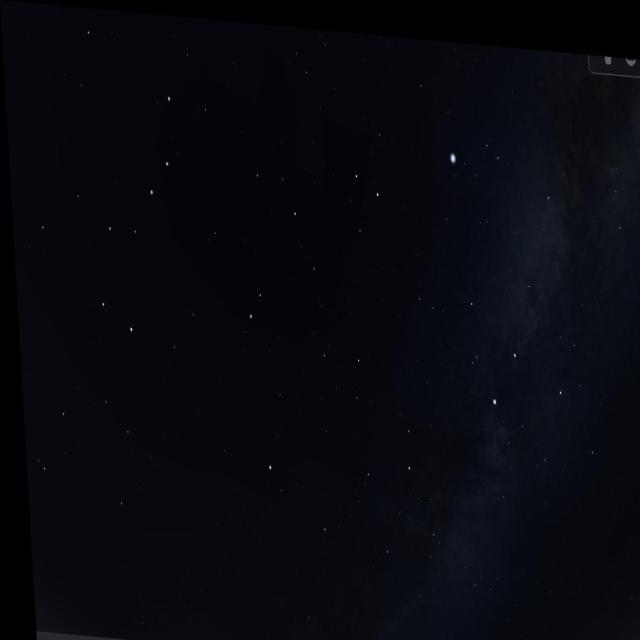cygnus: (442, 181, 572, 432)
lyra: (438, 109, 510, 193)
ursa_major: (73, 83, 188, 340)
